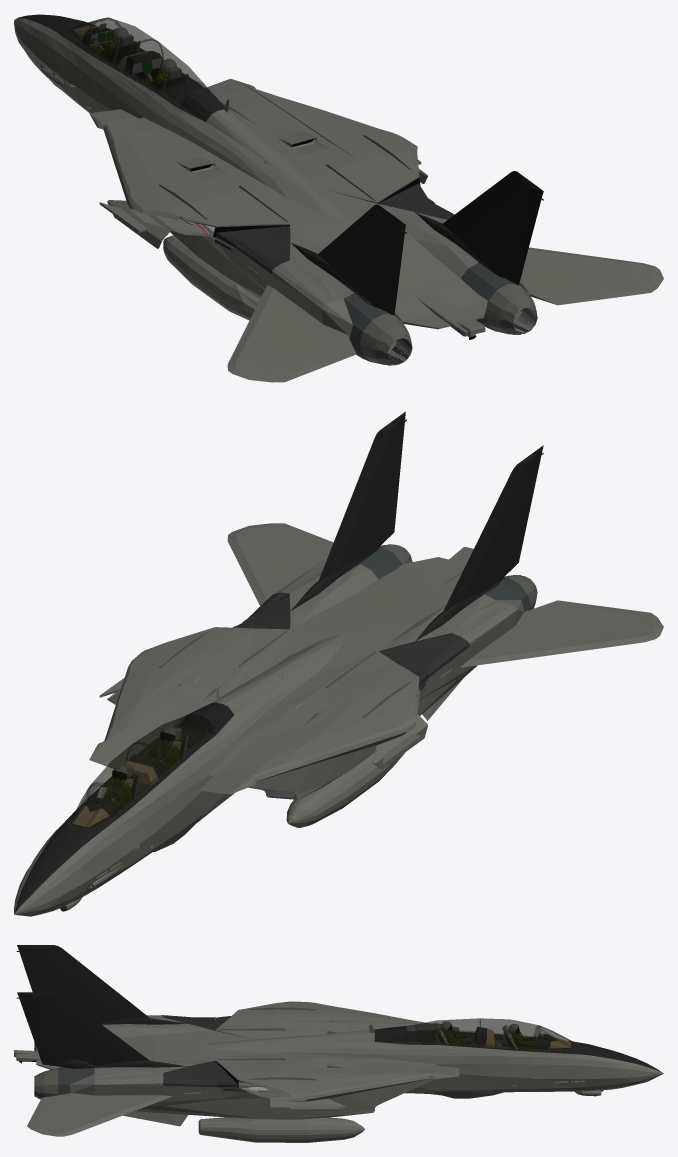
3 renders of one model, top to bottom at view 1: azimuth 30°, elevation 25°; view 2: azimuth 150°, elevation 25°; view 3: azimuth 270°, elevation 25°, orthographic. The views are drawn at different scales.
Visible parts, largest first — view 1: ShapeIndexedFaceSet_ShapeIndexedFaceSet.001, ShapeIndexedFaceSet.009_ShapeIndexedFaceSet.010, ShapeIndexedFaceSet.081_ShapeIndexedFaceSet.082, ShapeIndexedFaceSet.006_ShapeIndexedFaceSet.007, ShapeIndexedFaceSet.082_ShapeIndexedFaceSet.083, ShapeIndexedFaceSet.085_ShapeIndexedFaceSet.086, ShapeIndexedFaceSet.083_ShapeIndexedFaceSet.084, ShapeIndexedFaceSet.401_ShapeIndexedFaceSet.402, ShapeIndexedFaceSet.280_ShapeIndexedFaceSet.281, ShapeIndexedFaceSet.385_ShapeIndexedFaceSet.386, ShapeIndexedFaceSet.014_ShapeIndexedFaceSet.015, ShapeIndexedFaceSet.089_ShapeIndexedFaceSet.090 (+10 smaller); view 2: ShapeIndexedFaceSet_ShapeIndexedFaceSet.001, ShapeIndexedFaceSet.009_ShapeIndexedFaceSet.010, ShapeIndexedFaceSet.006_ShapeIndexedFaceSet.007, ShapeIndexedFaceSet.081_ShapeIndexedFaceSet.082, ShapeIndexedFaceSet.085_ShapeIndexedFaceSet.086, ShapeIndexedFaceSet.082_ShapeIndexedFaceSet.083, ShapeIndexedFaceSet.083_ShapeIndexedFaceSet.084, ShapeIndexedFaceSet.401_ShapeIndexedFaceSet.402, ShapeIndexedFaceSet.014_ShapeIndexedFaceSet.015, ShapeIndexedFaceSet.280_ShapeIndexedFaceSet.281, ShapeIndexedFaceSet.385_ShapeIndexedFaceSet.386, ShapeIndexedFaceSet.400_ShapeIndexedFaceSet.401 (+10 smaller); view 3: ShapeIndexedFaceSet_ShapeIndexedFaceSet.001, ShapeIndexedFaceSet.009_ShapeIndexedFaceSet.010, ShapeIndexedFaceSet.085_ShapeIndexedFaceSet.086, ShapeIndexedFaceSet.083_ShapeIndexedFaceSet.084, ShapeIndexedFaceSet.082_ShapeIndexedFaceSet.083, ShapeIndexedFaceSet.281_ShapeIndexedFaceSet.282, ShapeIndexedFaceSet.006_ShapeIndexedFaceSet.007, ShapeIndexedFaceSet.401_ShapeIndexedFaceSet.402, ShapeIndexedFaceSet.014_ShapeIndexedFaceSet.015, ShapeIndexedFaceSet.089_ShapeIndexedFaceSet.090, ShapeIndexedFaceSet.385_ShapeIndexedFaceSet.386, ShapeIndexedFaceSet.074_ShapeIndexedFaceSet.075 (+11 smaller).
Boxes of the visible parts, left/top/right/bottom form: ShapeIndexedFaceSet_ShapeIndexedFaceSet.001: left=89, top=78, right=522, bottom=338; ShapeIndexedFaceSet.009_ShapeIndexedFaceSet.010: left=14, top=18, right=343, bottom=221; ShapeIndexedFaceSet.081_ShapeIndexedFaceSet.082: left=227, top=285, right=356, bottom=382; ShapeIndexedFaceSet.006_ShapeIndexedFaceSet.007: left=287, top=190, right=487, bottom=337; ShapeIndexedFaceSet.082_ShapeIndexedFaceSet.083: left=521, top=247, right=663, bottom=305; ShapeIndexedFaceSet.085_ShapeIndexedFaceSet.086: left=415, top=171, right=543, bottom=275; ShapeIndexedFaceSet.083_ShapeIndexedFaceSet.084: left=291, top=204, right=407, bottom=306; ShapeIndexedFaceSet.401_ShapeIndexedFaceSet.402: left=88, top=18, right=202, bottom=97; ShapeIndexedFaceSet.280_ShapeIndexedFaceSet.281: left=163, top=235, right=259, bottom=320; ShapeIndexedFaceSet.385_ShapeIndexedFaceSet.386: left=70, top=25, right=202, bottom=107; ShapeIndexedFaceSet.014_ShapeIndexedFaceSet.015: left=17, top=14, right=230, bottom=121; ShapeIndexedFaceSet.089_ShapeIndexedFaceSet.090: left=499, top=195, right=540, bottom=285; ShapeIndexedFaceSet_ShapeIndexedFaceSet.001: left=89, top=559, right=524, bottom=799; ShapeIndexedFaceSet.009_ShapeIndexedFaceSet.010: left=14, top=634, right=343, bottom=916; ShapeIndexedFaceSet.006_ShapeIndexedFaceSet.007: left=287, top=547, right=473, bottom=665; ShapeIndexedFaceSet.081_ShapeIndexedFaceSet.082: left=460, top=600, right=663, bottom=667; ShapeIndexedFaceSet.085_ShapeIndexedFaceSet.086: left=291, top=411, right=406, bottom=610; ShapeIndexedFaceSet.082_ShapeIndexedFaceSet.083: left=227, top=523, right=333, bottom=606; ShapeIndexedFaceSet.083_ShapeIndexedFaceSet.084: left=415, top=445, right=543, bottom=641; ShapeIndexedFaceSet.401_ShapeIndexedFaceSet.402: left=90, top=717, right=205, bottom=804; ShapeIndexedFaceSet.014_ShapeIndexedFaceSet.015: left=14, top=702, right=234, bottom=913; ShapeIndexedFaceSet.280_ShapeIndexedFaceSet.281: left=286, top=752, right=404, bottom=827; ShapeIndexedFaceSet.385_ShapeIndexedFaceSet.386: left=70, top=713, right=216, bottom=829; ShapeIndexedFaceSet.400_ShapeIndexedFaceSet.401: left=88, top=714, right=215, bottom=809; ShapeIndexedFaceSet_ShapeIndexedFaceSet.001: left=69, top=1001, right=459, bottom=1119; ShapeIndexedFaceSet.009_ShapeIndexedFaceSet.010: left=202, top=1025, right=663, bottom=1092; ShapeIndexedFaceSet.085_ShapeIndexedFaceSet.086: left=16, top=992, right=187, bottom=1068; ShapeIndexedFaceSet.083_ShapeIndexedFaceSet.084: left=16, top=945, right=187, bottom=1024; ShapeIndexedFaceSet.082_ShapeIndexedFaceSet.083: left=27, top=1093, right=172, bottom=1136; ShapeIndexedFaceSet.281_ShapeIndexedFaceSet.282: left=198, top=1117, right=364, bottom=1142; ShapeIndexedFaceSet.006_ShapeIndexedFaceSet.007: left=14, top=1031, right=257, bottom=1086; ShapeIndexedFaceSet.401_ShapeIndexedFaceSet.402: left=415, top=1018, right=538, bottom=1047; ShapeIndexedFaceSet.014_ShapeIndexedFaceSet.015: left=374, top=1026, right=662, bottom=1072; ShapeIndexedFaceSet.089_ShapeIndexedFaceSet.090: left=20, top=1001, right=69, bottom=1067; ShapeIndexedFaceSet.385_ShapeIndexedFaceSet.386: left=405, top=1026, right=573, bottom=1051; ShapeIndexedFaceSet.074_ShapeIndexedFaceSet.075: left=123, top=1007, right=315, bottom=1126.
Bounding box in the file's own units: 104 × 50.09 × 195.
